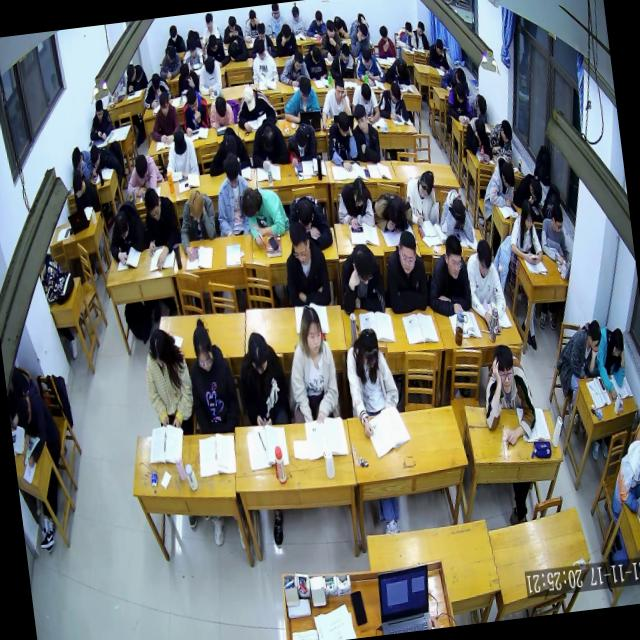bow: (474, 340, 538, 452), (238, 182, 292, 251), (284, 188, 334, 253), (104, 198, 150, 268), (202, 120, 252, 179), (246, 114, 292, 175), (435, 186, 477, 246), (232, 80, 278, 132), (368, 184, 414, 236), (121, 150, 166, 200), (276, 50, 311, 90), (511, 169, 544, 208), (86, 139, 120, 175), (382, 55, 412, 90), (438, 65, 471, 96), (122, 60, 148, 94), (224, 32, 250, 62), (328, 10, 349, 40)
down: (11, 376, 64, 468), (190, 323, 217, 373), (348, 239, 376, 286), (244, 330, 270, 378), (355, 326, 382, 372), (288, 220, 312, 268), (146, 324, 171, 370), (238, 186, 264, 220), (142, 185, 164, 222), (474, 236, 494, 276), (186, 186, 207, 223), (292, 195, 314, 230), (384, 194, 406, 228), (13, 390, 33, 427), (222, 156, 242, 190), (586, 318, 604, 355), (112, 210, 132, 242), (607, 326, 625, 360), (416, 170, 436, 200), (518, 198, 536, 231), (350, 174, 368, 207), (448, 194, 466, 227), (259, 122, 278, 152), (240, 83, 258, 113), (296, 72, 314, 102), (170, 127, 188, 157), (334, 109, 352, 138), (132, 152, 150, 181), (550, 202, 566, 232), (500, 160, 516, 190), (292, 122, 309, 150), (222, 130, 240, 156), (528, 174, 544, 203), (332, 73, 347, 103), (70, 170, 86, 198), (156, 89, 171, 118), (184, 85, 200, 112), (69, 146, 84, 174), (499, 118, 514, 146), (87, 144, 102, 170), (472, 114, 487, 140), (214, 94, 228, 120), (358, 45, 374, 67), (254, 36, 268, 60), (358, 80, 372, 104), (338, 42, 352, 65), (453, 81, 468, 102), (475, 90, 488, 114), (202, 54, 216, 76), (388, 82, 402, 104), (205, 32, 219, 53), (393, 57, 407, 78), (149, 70, 162, 92), (177, 62, 190, 84), (309, 44, 322, 66), (356, 20, 369, 42), (164, 42, 178, 62), (125, 62, 138, 83), (225, 12, 238, 33), (93, 98, 105, 120), (453, 63, 466, 83), (377, 24, 390, 44), (186, 38, 198, 59), (255, 21, 267, 42), (280, 21, 292, 42), (292, 50, 304, 71), (246, 8, 258, 28), (434, 35, 445, 56), (332, 14, 343, 34), (168, 23, 179, 42), (313, 8, 323, 28), (402, 20, 413, 38), (290, 4, 300, 22), (452, 225, 462, 243), (415, 19, 425, 36), (270, 3, 280, 20)
lookup: (490, 342, 518, 396), (296, 306, 324, 358), (394, 228, 420, 274), (442, 233, 466, 282), (352, 102, 370, 134), (323, 17, 335, 38), (204, 12, 215, 32)
sit: (278, 302, 342, 428), (182, 314, 242, 438), (341, 324, 403, 439), (138, 322, 198, 435), (232, 326, 292, 431), (276, 213, 334, 310), (378, 226, 432, 318), (419, 231, 474, 320), (462, 236, 509, 334), (334, 238, 388, 320), (138, 182, 184, 274), (209, 153, 257, 239), (172, 184, 220, 265), (550, 316, 606, 381), (603, 436, 640, 521), (503, 196, 544, 268), (592, 324, 630, 398), (322, 108, 360, 174), (332, 173, 376, 230), (476, 153, 518, 210), (278, 72, 322, 126), (348, 98, 382, 167), (315, 72, 354, 132), (160, 126, 200, 184), (402, 168, 440, 228), (536, 199, 571, 262), (146, 90, 182, 146), (178, 84, 212, 139), (282, 120, 320, 168), (461, 111, 494, 165), (374, 80, 410, 125), (68, 168, 102, 215), (348, 78, 381, 126), (246, 33, 279, 80), (485, 116, 516, 164), (444, 78, 474, 125), (352, 43, 384, 87), (326, 41, 358, 83), (85, 94, 114, 140), (138, 70, 172, 109), (194, 52, 224, 94), (316, 17, 344, 62), (172, 58, 202, 96), (300, 42, 329, 81), (248, 20, 276, 60), (202, 30, 230, 69), (206, 91, 234, 130), (155, 42, 183, 80), (179, 34, 206, 72), (271, 19, 297, 57), (346, 18, 372, 56), (196, 11, 221, 49), (426, 34, 450, 72), (373, 24, 397, 61), (220, 12, 246, 46), (393, 16, 417, 52), (241, 7, 263, 43), (264, 2, 286, 38), (467, 90, 489, 125), (304, 8, 328, 40), (164, 20, 186, 54), (287, 4, 308, 36), (410, 19, 430, 51)
